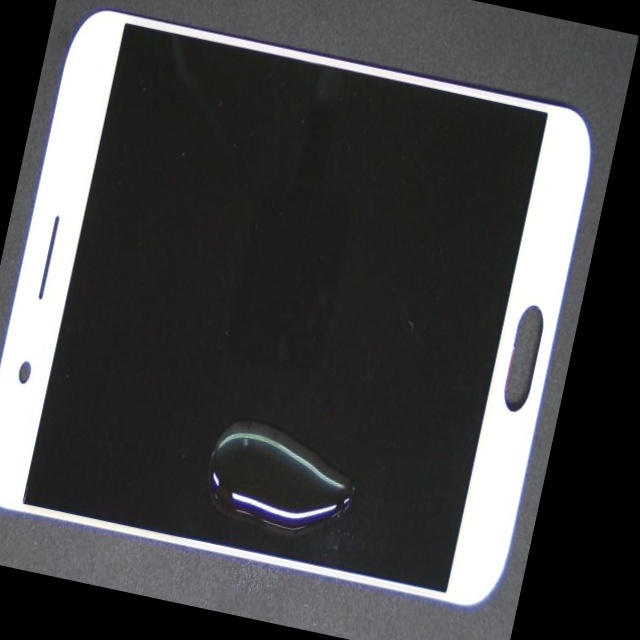oil: (168, 237, 559, 640)
